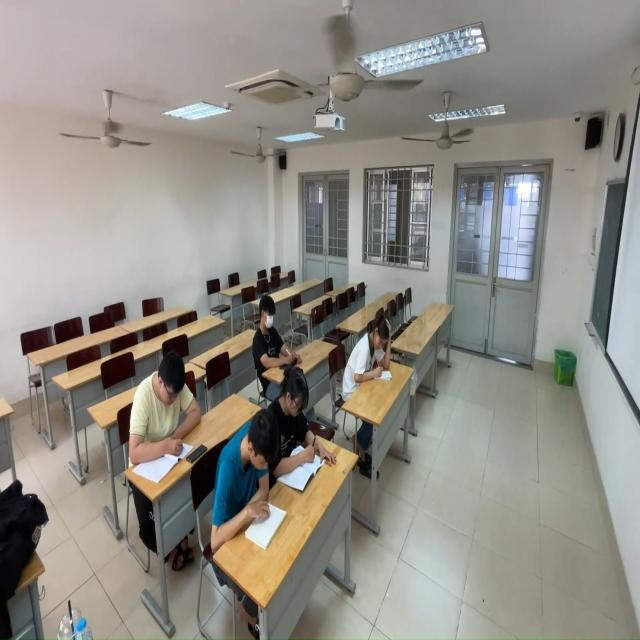read: (208, 398, 286, 552), (122, 334, 209, 471), (261, 359, 328, 475), (340, 303, 399, 399), (248, 291, 304, 375)
